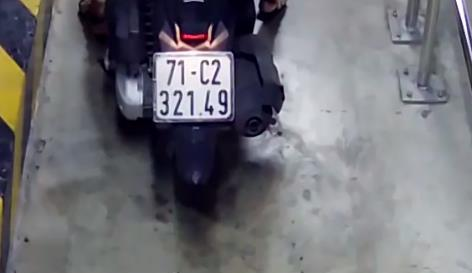lisence: (152, 51, 237, 122)
